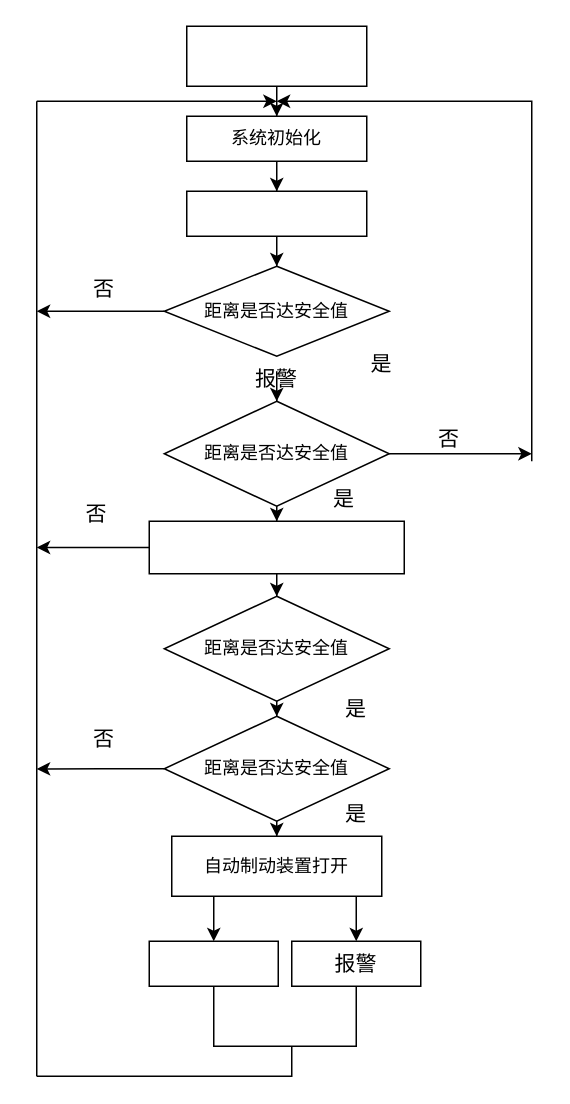
Some shapes in this 570 by 1104 pixel diagram are drawn without their labels. Here are the shapes that lost their labels. From the top down, the box of each, then its label:
(185, 25, 367, 86): 开始
(185, 190, 367, 236): 检测距离
(148, 520, 404, 574): 节气门开度控制装置打开
(148, 940, 278, 986): 停车
